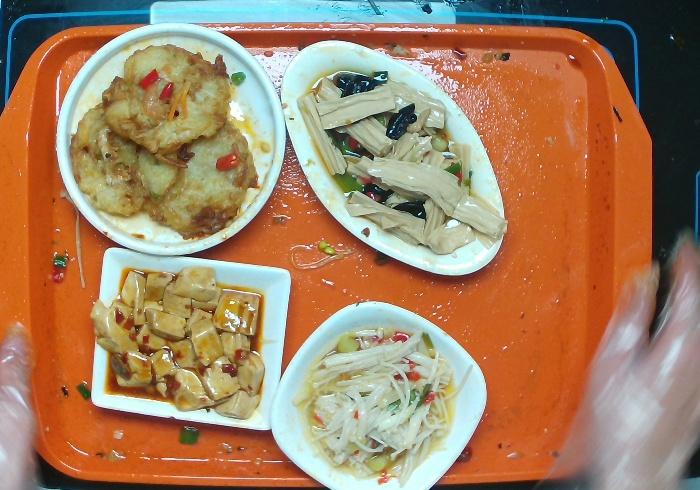HZYJPL-Si_Fang_Die: (89, 245, 292, 432)
HZYJPL-Si_Fang_Yuan_Die: (268, 299, 489, 490)
HZYJPL-Xiao_Yu_Die: (279, 39, 506, 277)
HZYJPL-Xiao_Yuan_Die: (55, 20, 287, 257)
